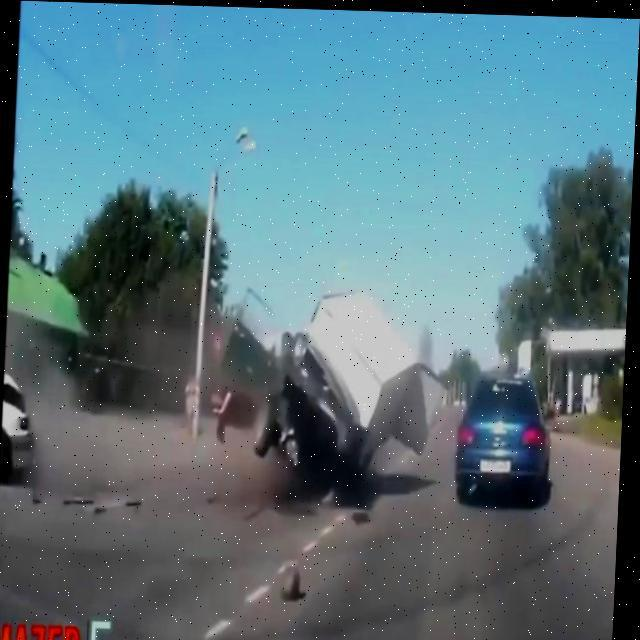multiple_accident: (182, 267, 578, 541)
